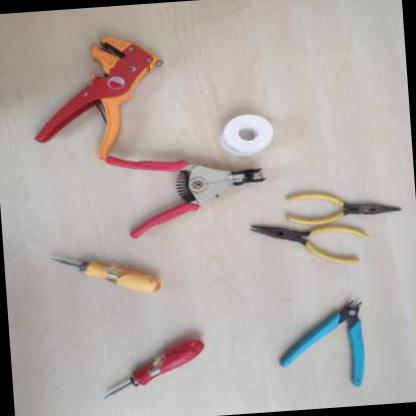Screwdriver: (96, 332, 210, 402), (46, 244, 166, 302)
